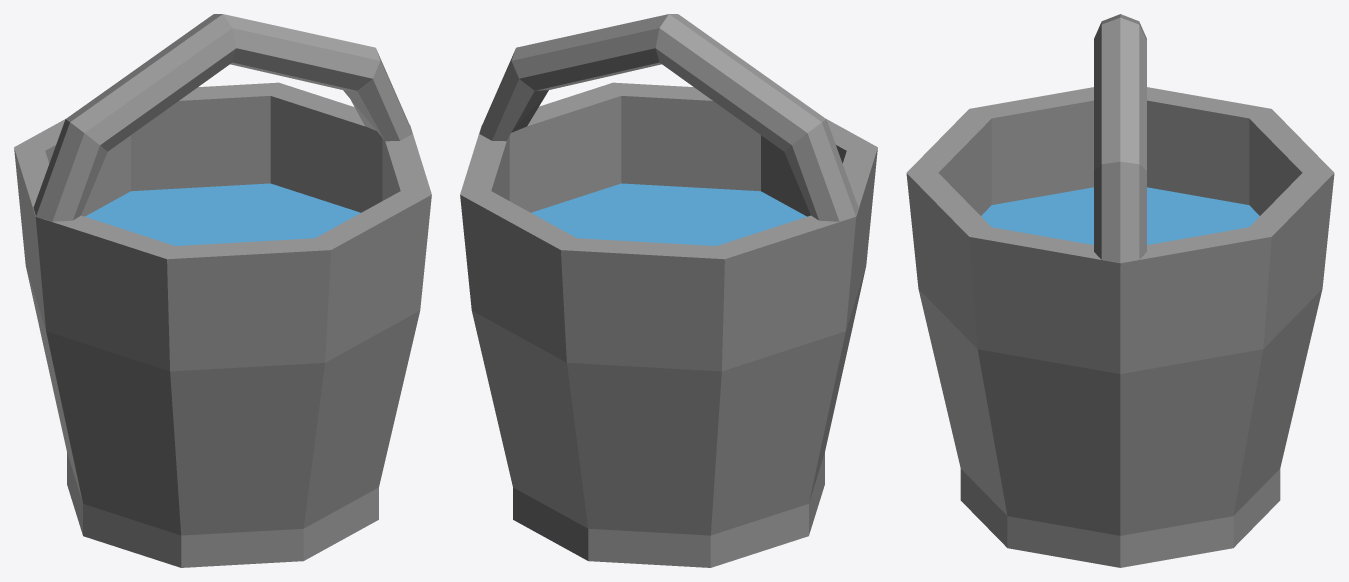
The model's file is Bucket.fbx.
3 renders of one model, left to right at view 1: azimuth 30°, elevation 25°; view 2: azimuth 150°, elevation 25°; view 3: azimuth 270°, elevation 25°, orthographic.
Visible parts, largest first — view 1: Cylinder, Torus; view 2: Cylinder, Torus; view 3: Cylinder, Torus.
Part boxes in pixels (x1,y1,x2,y2): Cylinder: (14,82,431,567); Torus: (33,14,412,221); Cylinder: (460,82,877,567); Torus: (479,14,858,221); Cylinder: (906,87,1334,567); Torus: (1094,14,1146,262).
Size of the model in its own units: 268 by 333 by 268.
